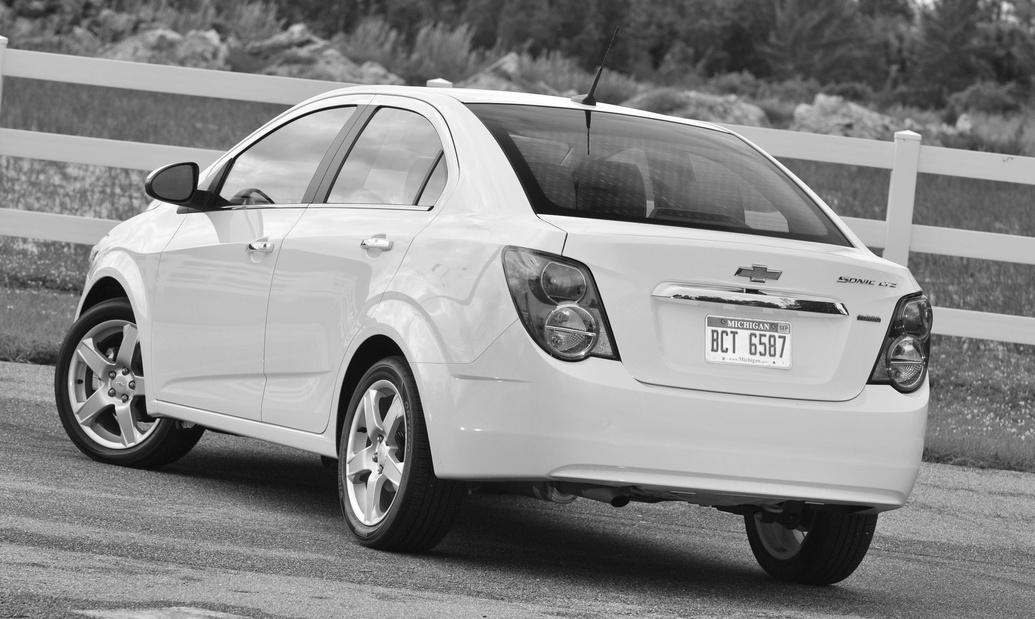car: (54, 69, 934, 589)
